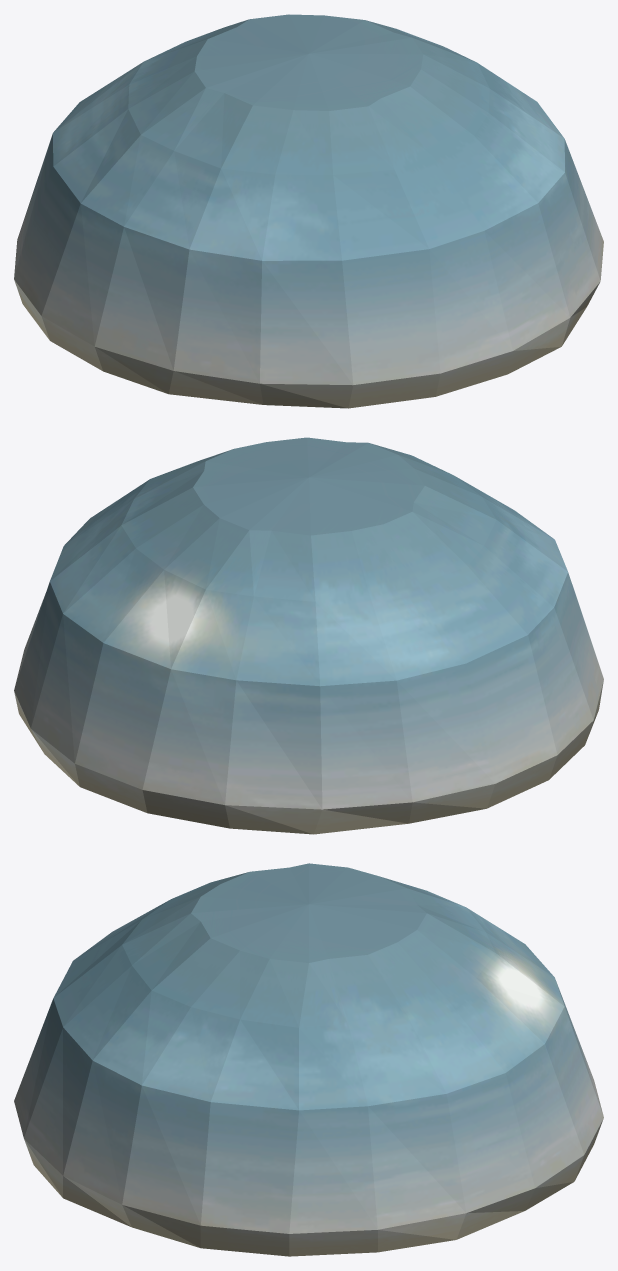
The model's file is C2_gunship_skydome.obj.
3 views of the same model, one above another, from view 1: azimuth 30°, elevation 25°; view 2: azimuth 150°, elevation 25°; view 3: azimuth 270°, elevation 25° (orthographic).
Visible parts, largest first — view 1: Node 0; view 2: Node 0; view 3: Node 0.
Boxes of the visible parts, left/top/right/bottom form: Node 0: left=14, top=14, right=603, bottom=408; Node 0: left=14, top=437, right=603, bottom=834; Node 0: left=14, top=863, right=603, bottom=1256.
Size of the model in its own units: 0.6 by 0.26 by 0.6.
Materials: 1 (1 with a texture image).
